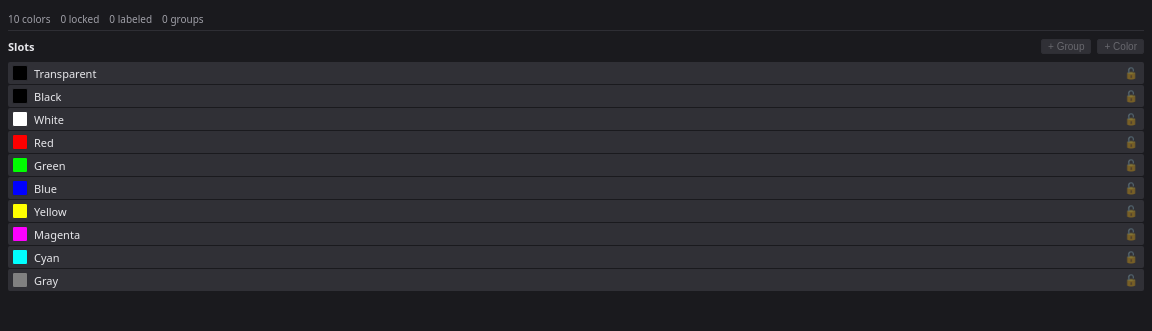
Test: PalettePropsPanel › add color button adds a color
What coordinates should you click on to do the following:
click the button with test id "palette-add-color"
I would click on:
 (1121, 47)
Its box is [1098,39,1144,54].
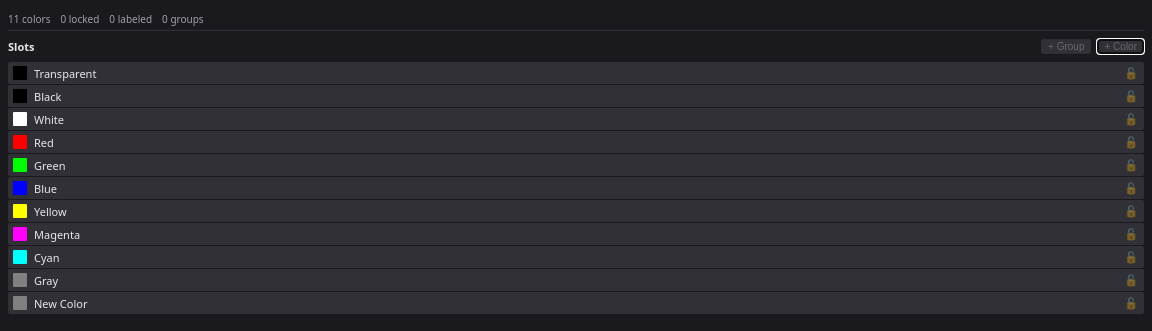
Expected: the text "New Color" is shown, [34,296,88,311]
